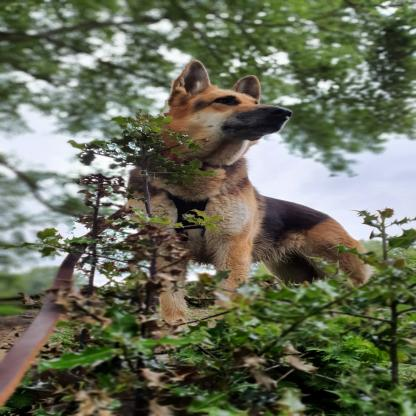german shepherd: (123, 60, 370, 329)
